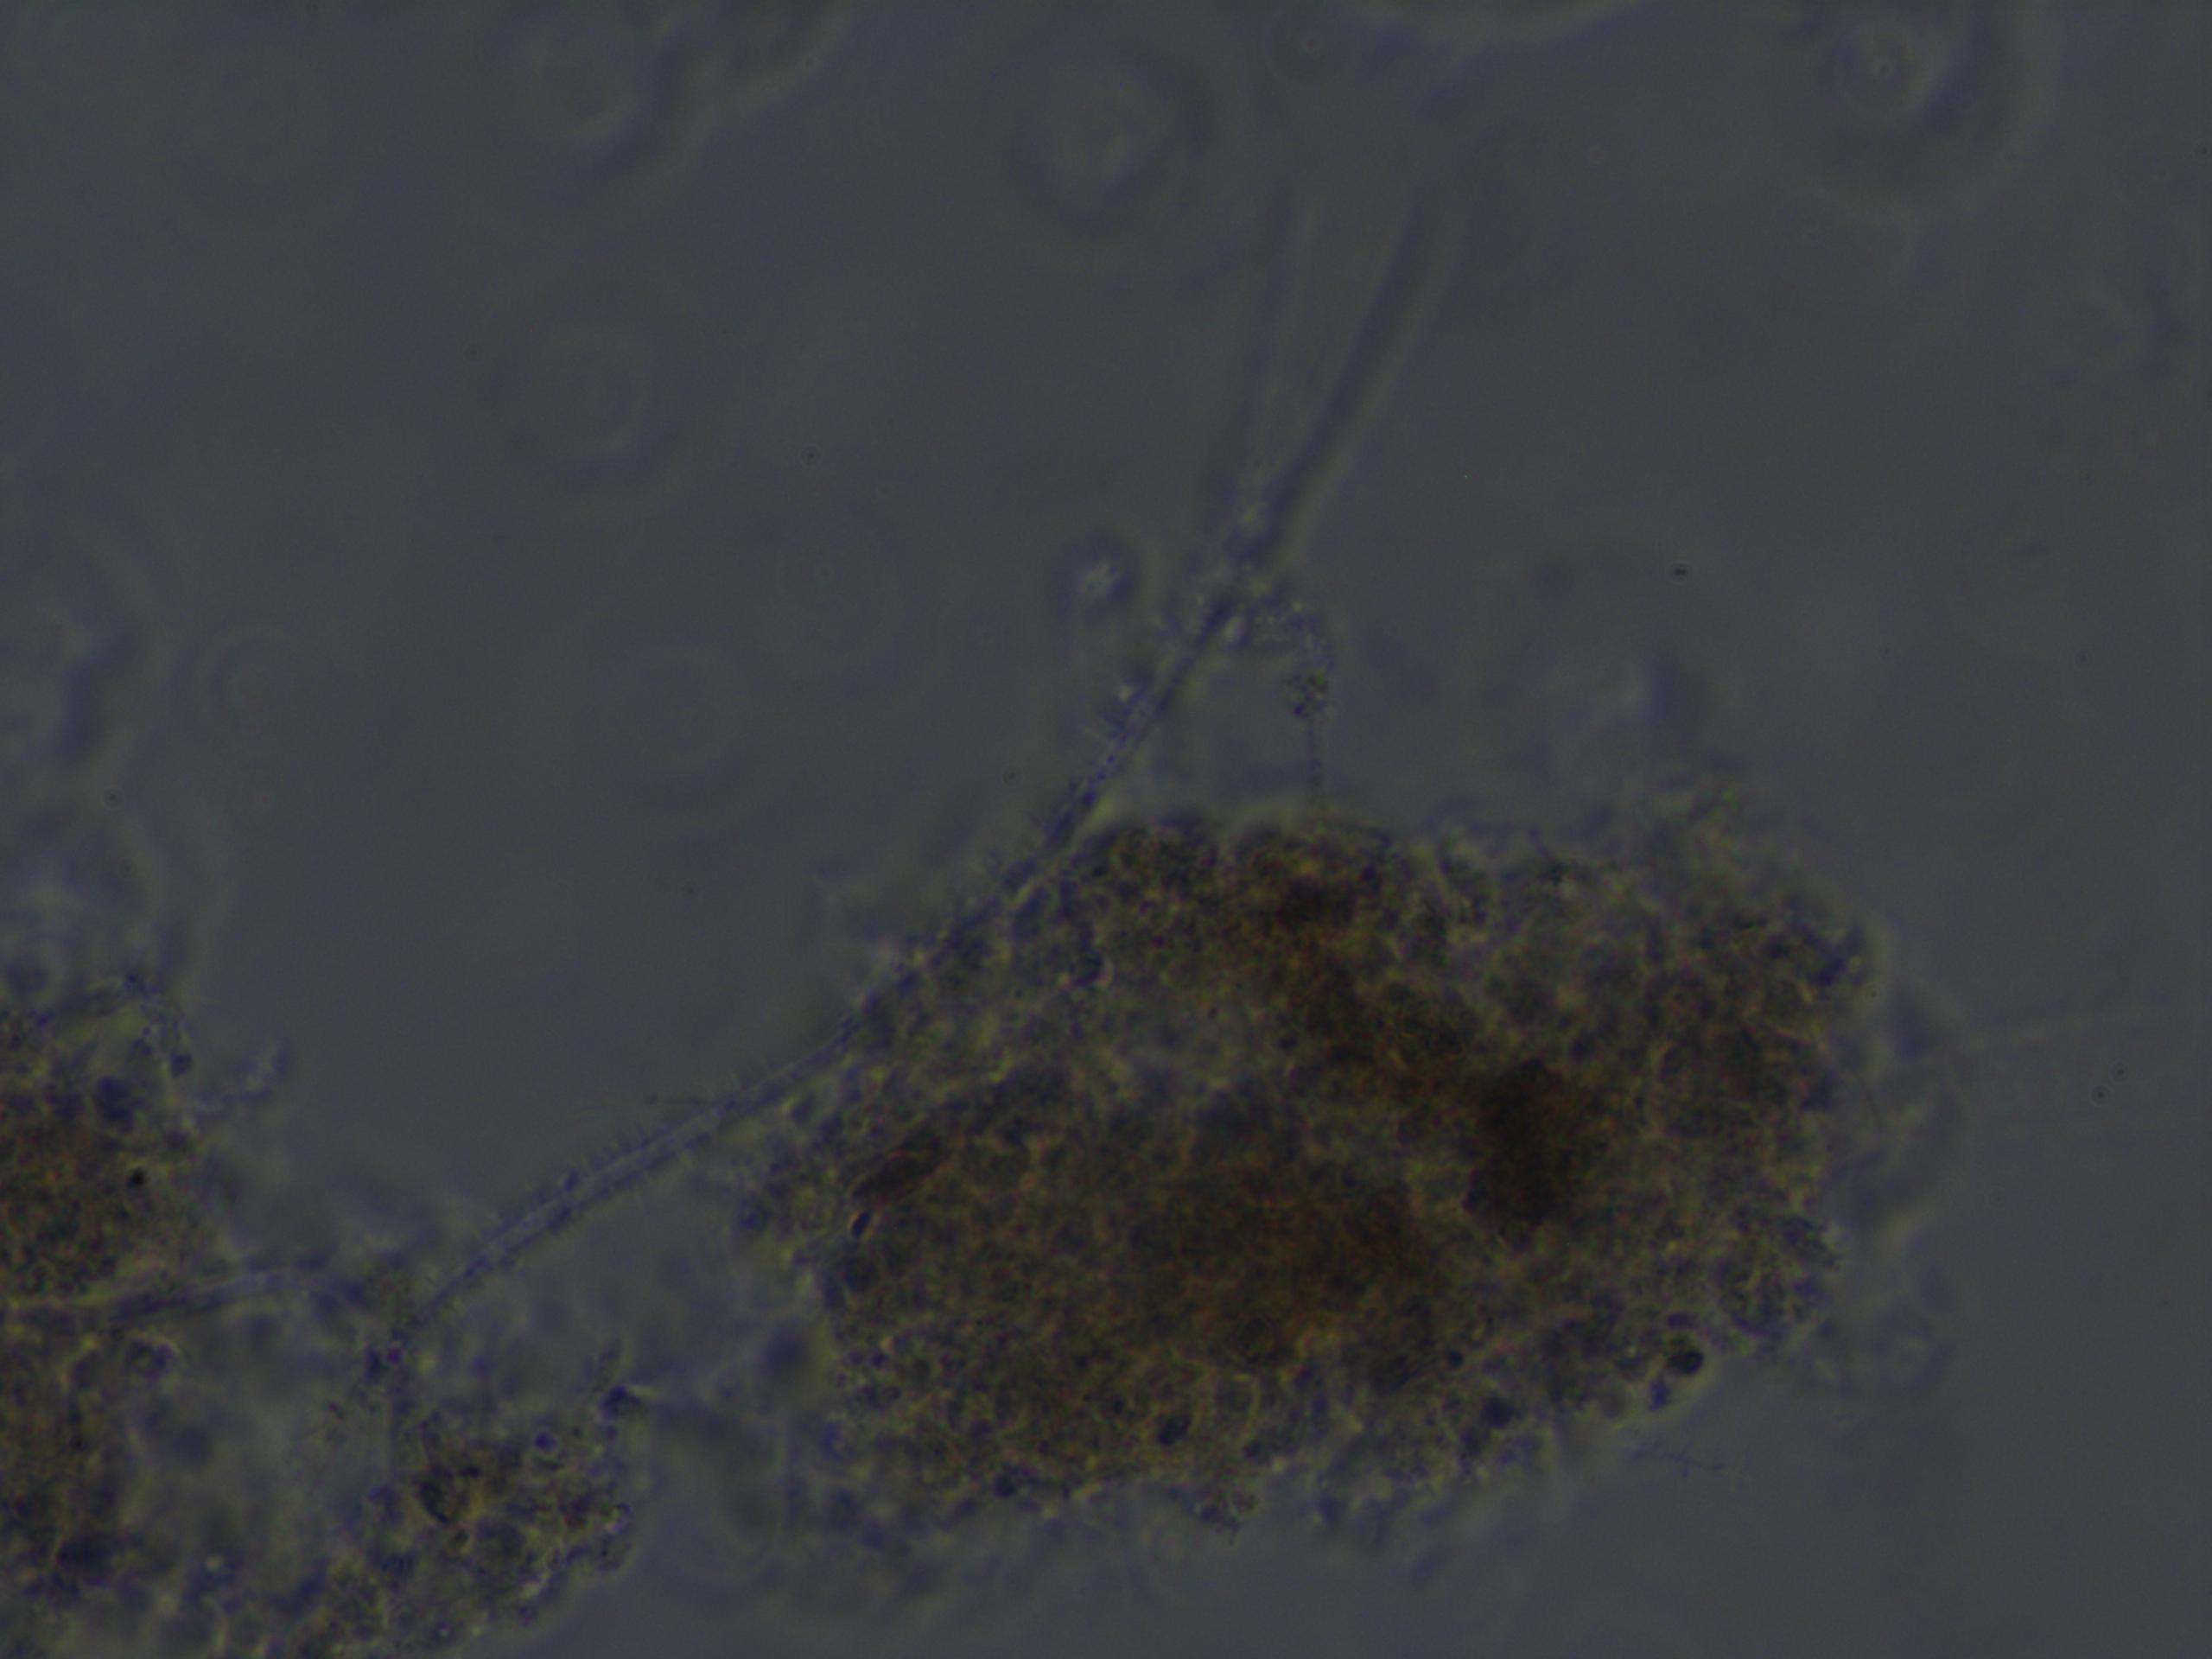filament: (383, 188, 1440, 1370)
spherical_floc: (796, 810, 1898, 1516)
